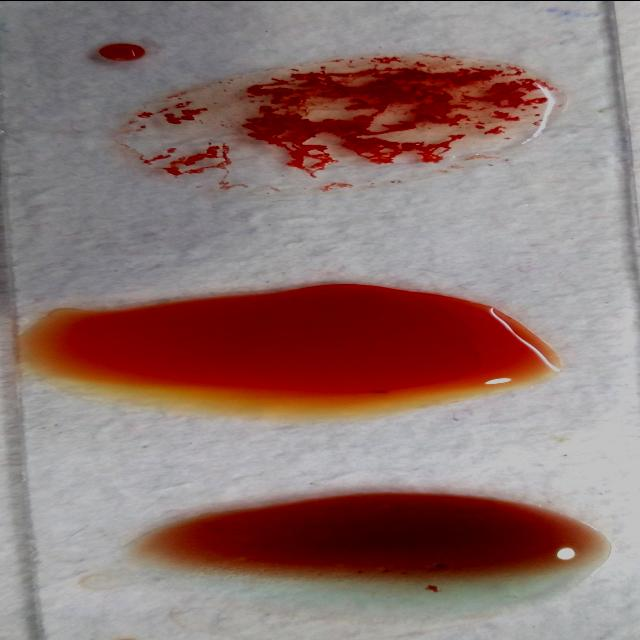D: (117, 57, 560, 190)
